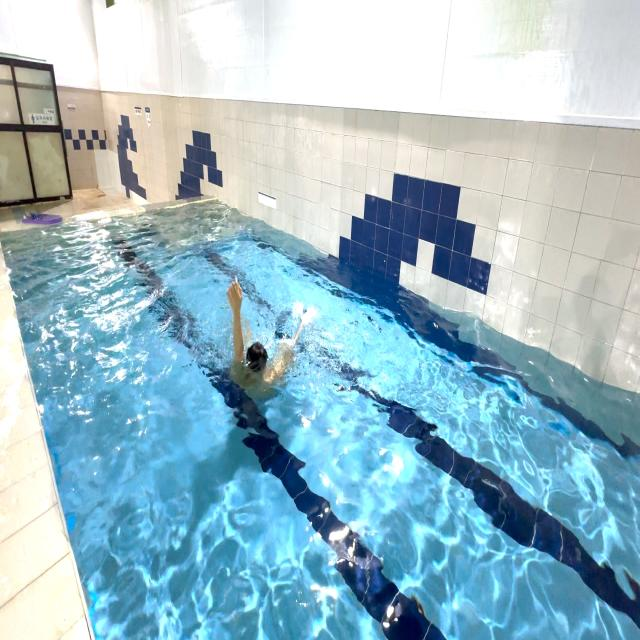Drowning: (211, 255, 310, 419)
